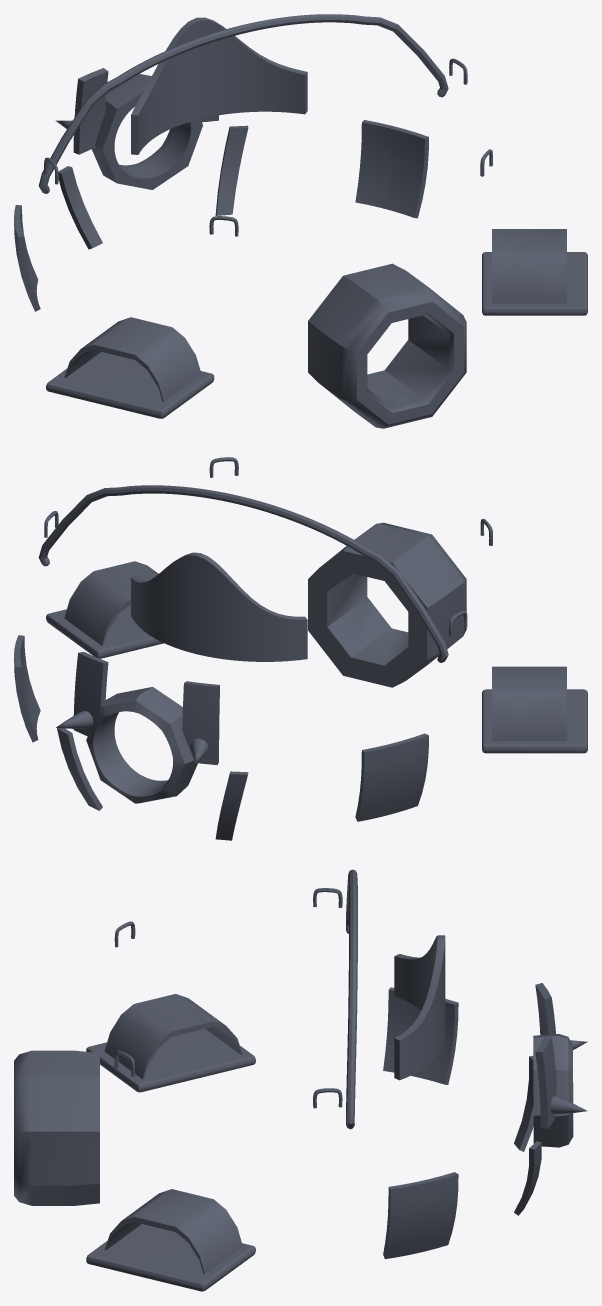
File: EM_Metal.obj
3 views of the same model, one above another, from view 1: azimuth 30°, elevation 25°; view 2: azimuth 150°, elevation 25°; view 3: azimuth 270°, elevation 25° (orthographic).
Parts seen in each view (by area): view 1: EM_Metal; view 2: EM_Metal; view 3: EM_Metal.
Part boxes in pixels (x1,y1,x2,y2): EM_Metal: (14, 14, 587, 428); EM_Metal: (14, 457, 587, 840); EM_Metal: (14, 869, 587, 1291).
Bounding box in the file's own units: 9.88 × 4.87 × 9.01.
